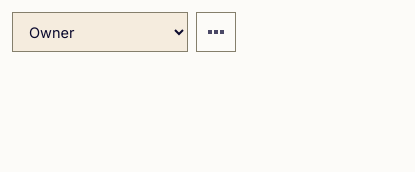
Test: the only owner › keeps the controls when there is another owner
Expected: the dropdown named "Role of a@e2e.test" is shown, x1=12 y1=12 x2=188 y2=52
Click the button named "Actions for a@e2e.test" at [216, 32], box x1=196 y1=12 x2=236 y2=52
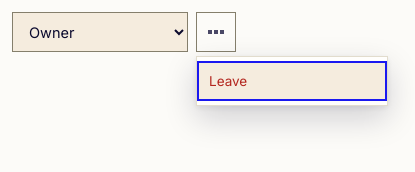
Expected: the menu item with aria-label "Leave this workspace" is shown, x1=197 y1=61 x2=387 y2=101
